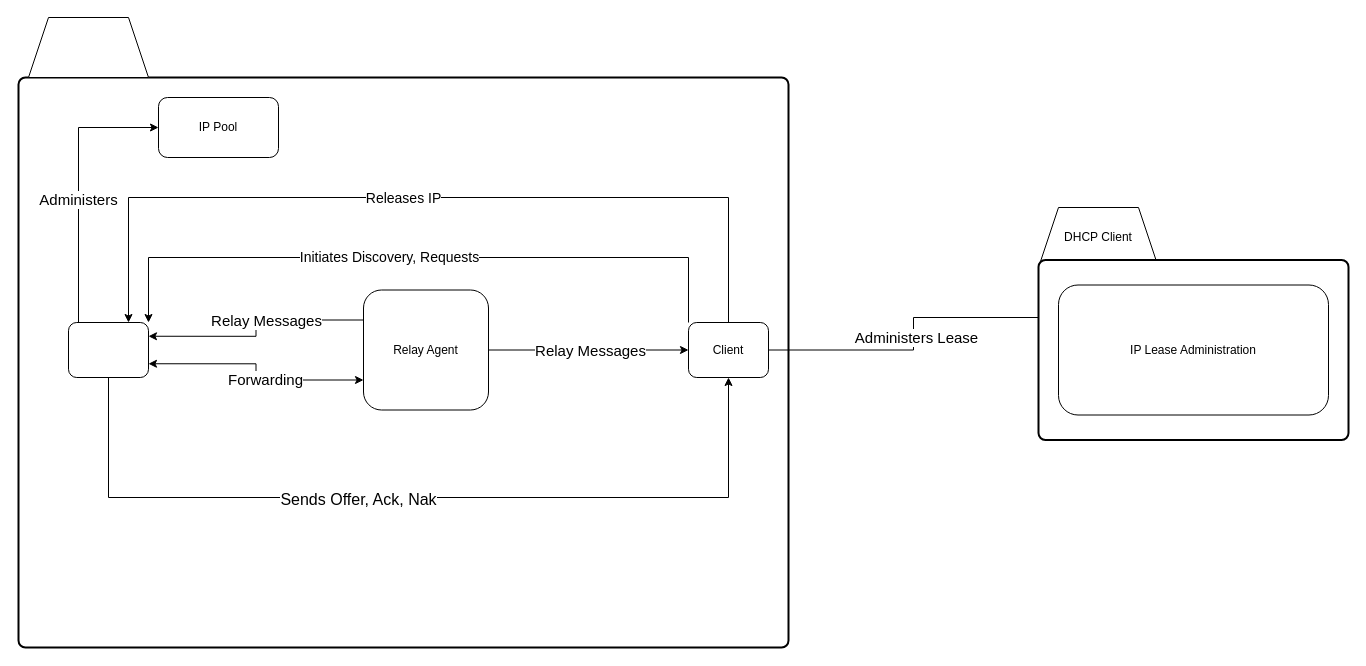
Image size: 1366x666. Some labels were removed from this diagram. The shapes that lost their labels are listed below. From the top down, each one's centre as x and y in pixels, then its label:
the point at 88,47: DHCP Server
the point at 108,350: Server
